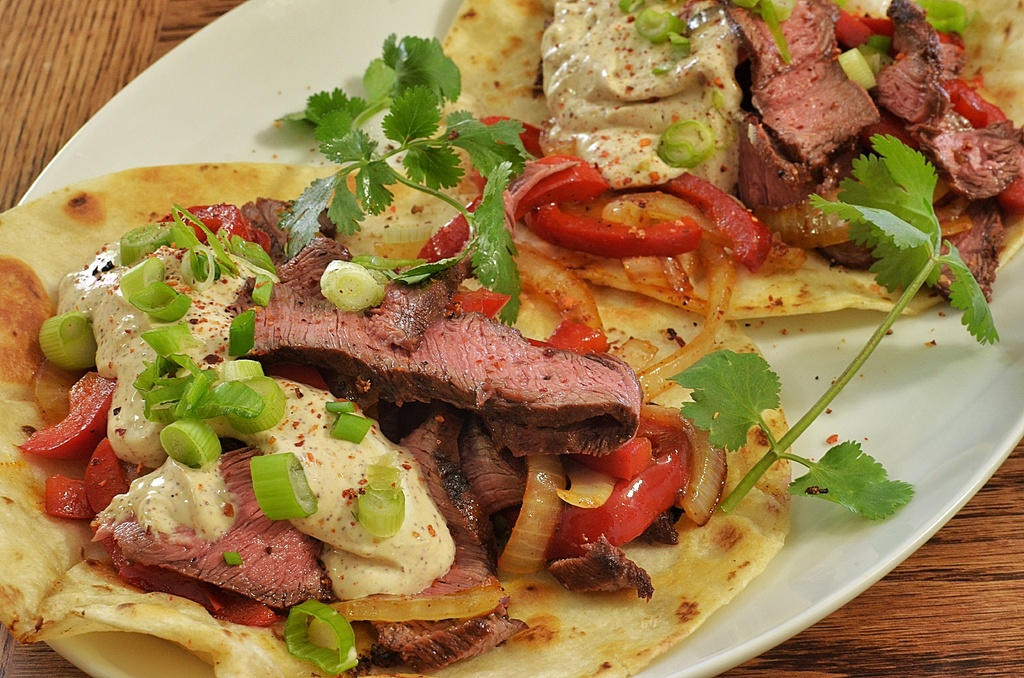taco: (0, 159, 790, 677), (413, 0, 1023, 343)
